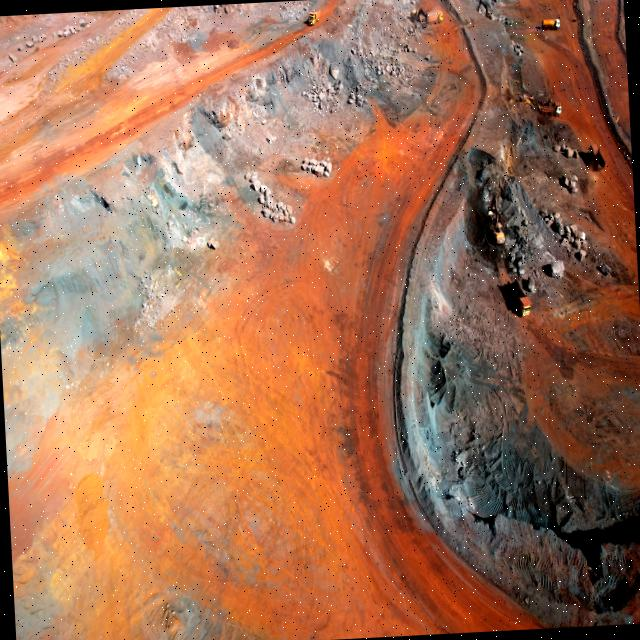Dumper truck: (510, 276, 533, 318), (587, 142, 604, 170), (538, 100, 562, 116), (424, 9, 444, 28), (306, 8, 322, 26)
Excavator: (486, 200, 508, 242), (518, 85, 548, 107), (409, 8, 428, 30), (476, 0, 493, 20)
